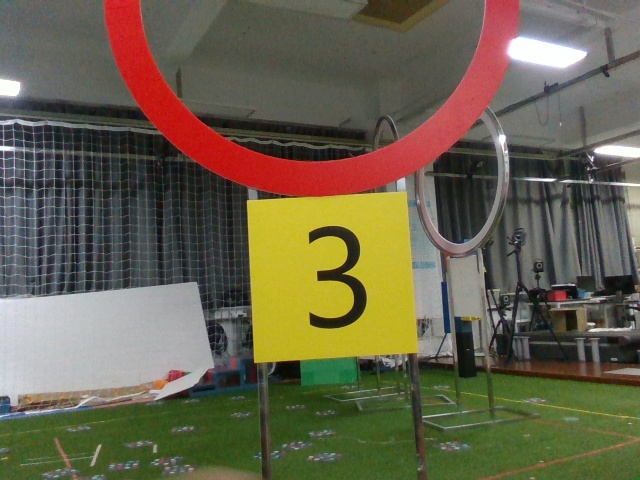target: (253, 199, 417, 354)
